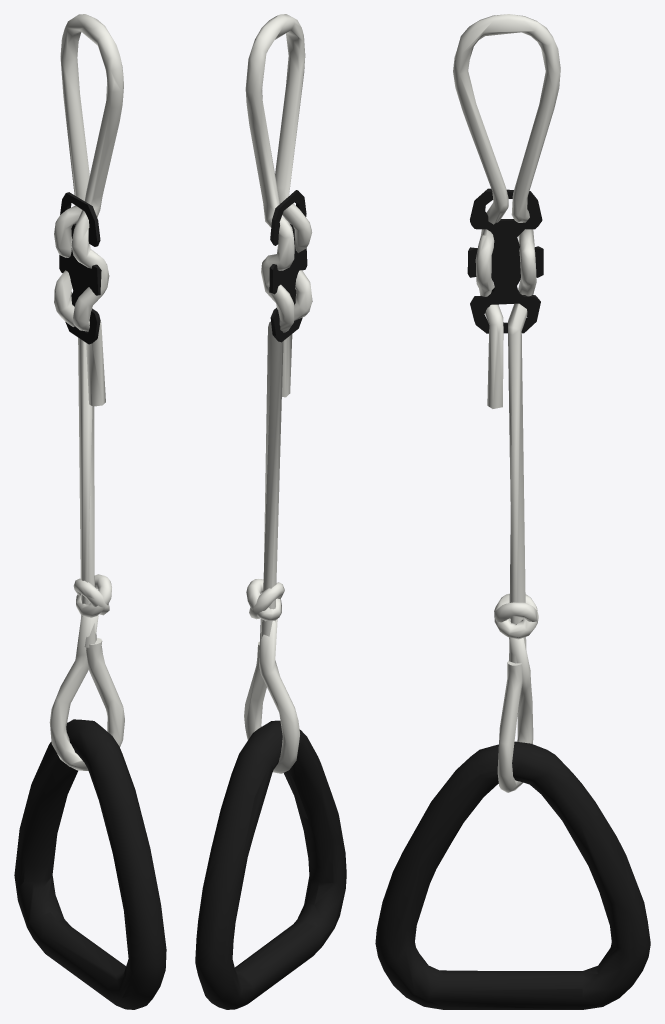
File: Rings Gym.FBX
3 renders of one model, left to right at view 1: azimuth 30°, elevation 25°; view 2: azimuth 150°, elevation 25°; view 3: azimuth 270°, elevation 25°, orthographic. The views are drawn at different scales.
Parts seen in each view (by area): view 1: Rings Gym; view 2: Rings Gym; view 3: Rings Gym.
Part boxes in pixels (x1=…): Rings Gym: x1=14, y1=14, x2=166, y2=1009; Rings Gym: x1=195, y1=14, x2=346, y2=1009; Rings Gym: x1=375, y1=14, x2=650, y2=1009.
Size of the model in its own units: 5.01 by 72.08 by 18.09.
